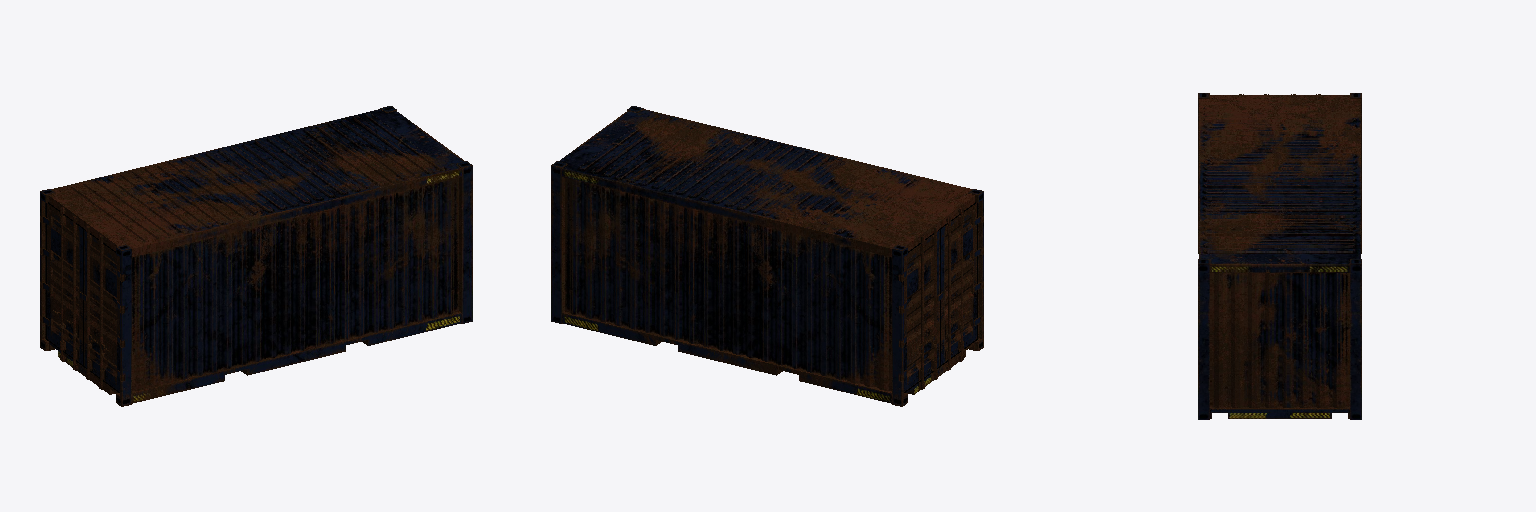
3 views of the same model, side by side, from view 1: azimuth 30°, elevation 25°; view 2: azimuth 150°, elevation 25°; view 3: azimuth 270°, elevation 25° (orthographic).
Parts seen in each view (by area): view 1: Container_Untitled.001, ContainerDoor_Untitled, ContainerDoor.001_Untitled.002; view 2: Container_Untitled.001, ContainerDoor.001_Untitled.002, ContainerDoor_Untitled; view 3: Container_Untitled.001.
Boxes of the visible parts, <box> form: Container_Untitled.001: <box>40,106,472,406</box>; ContainerDoor_Untitled: <box>40,202,83,369</box>; ContainerDoor.001_Untitled.002: <box>80,226,123,392</box>; Container_Untitled.001: <box>551,106,983,406</box>; ContainerDoor.001_Untitled.002: <box>937,202,983,369</box>; ContainerDoor_Untitled: <box>900,226,939,392</box>; Container_Untitled.001: <box>1198,93,1361,419</box>.
Bounding box in the file's own units: 5.95 × 2.53 × 2.4.
3 materials, 1 textured.